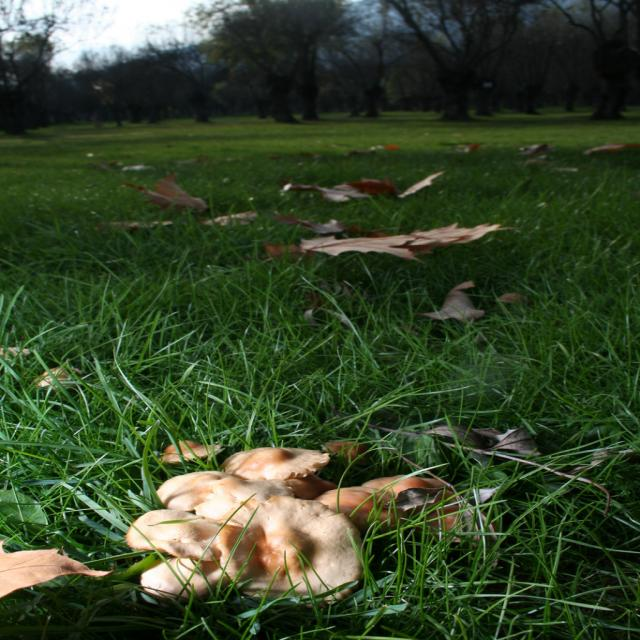Mushroom: (119, 447, 400, 602), (362, 475, 474, 539), (157, 439, 224, 463)
